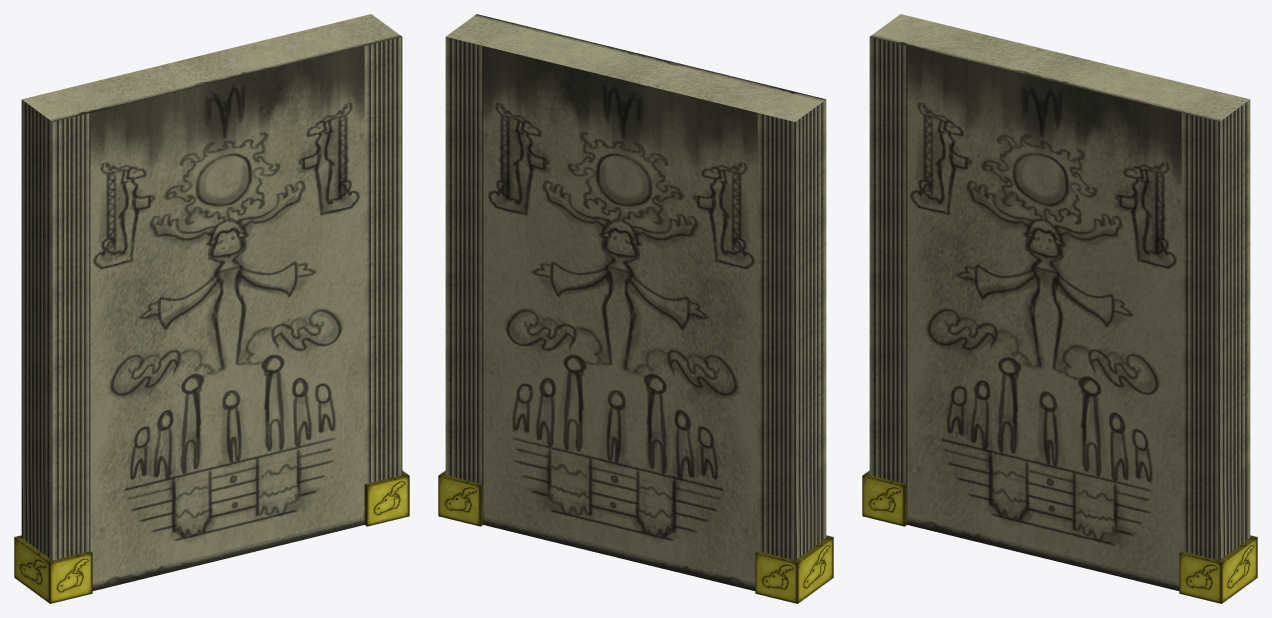
File: MuralWall.FBX
The picture shows the model from 3 angles, left to right: view 1: azimuth 30°, elevation 25°; view 2: azimuth 150°, elevation 25°; view 3: azimuth 330°, elevation 25°; orthographic projection.
Parts seen in each view (by area): view 1: Plane001; view 2: Plane001; view 3: Plane001.
Boxes of the visible parts, <box> form: Plane001: <box>14,14,409,603</box>; Plane001: <box>438,14,833,603</box>; Plane001: <box>862,14,1257,603</box>.
Size of the model in its own units: 53.43 by 68.06 by 9.24.
